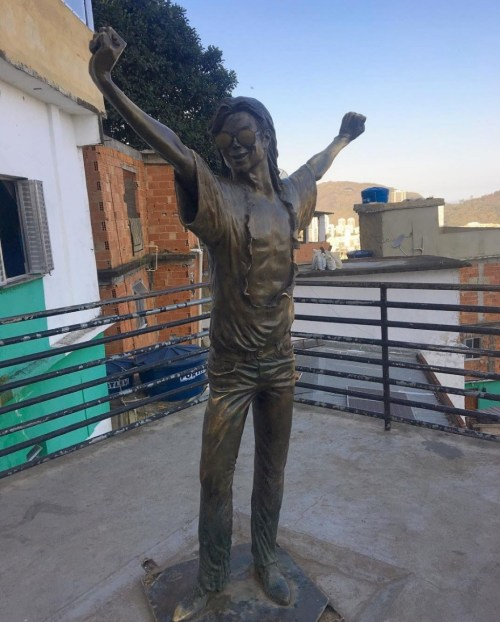person-like: (82, 22, 370, 615)
